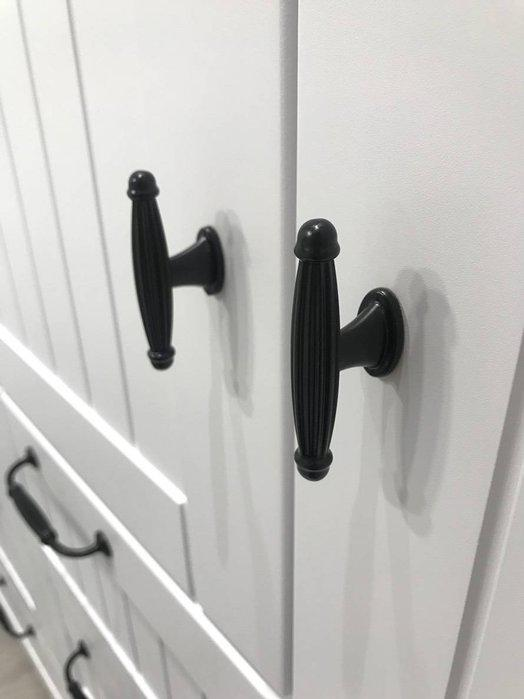doorhandle: (248, 182, 452, 526), (68, 109, 238, 409)
